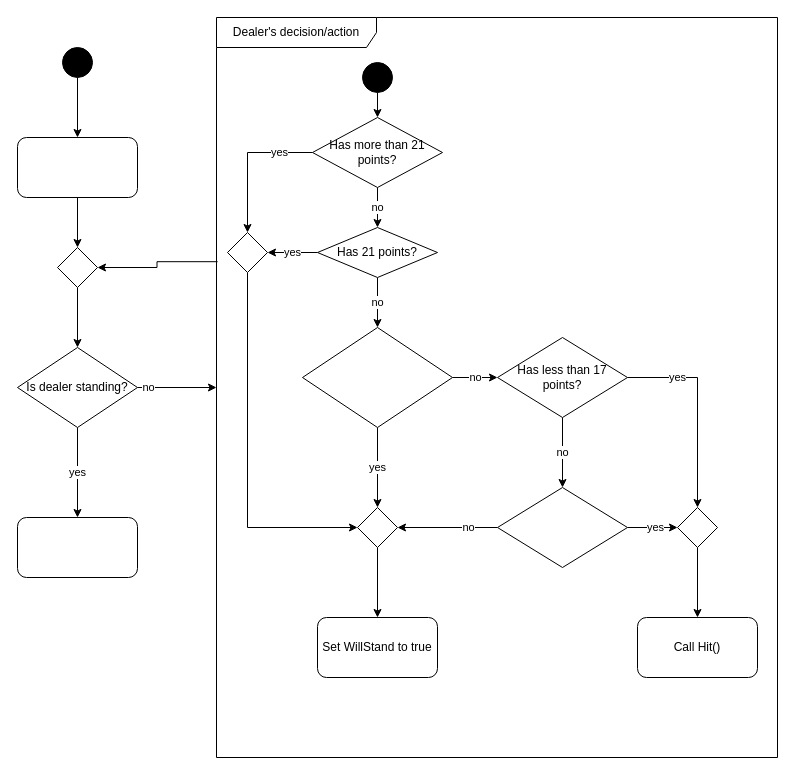
Some shapes in this 795 by 775 pixel diagram are drawn without their labels. The box of each missing label's shape, as (x1, y1, x2, y2) in pixels:
Call Stand(): (16, 516, 138, 578)
Has an ace that counts as 11?: (496, 486, 628, 568)
Has more points than the highest scoring player hand?: (302, 326, 452, 428)
StartTurn: (16, 136, 138, 198)
